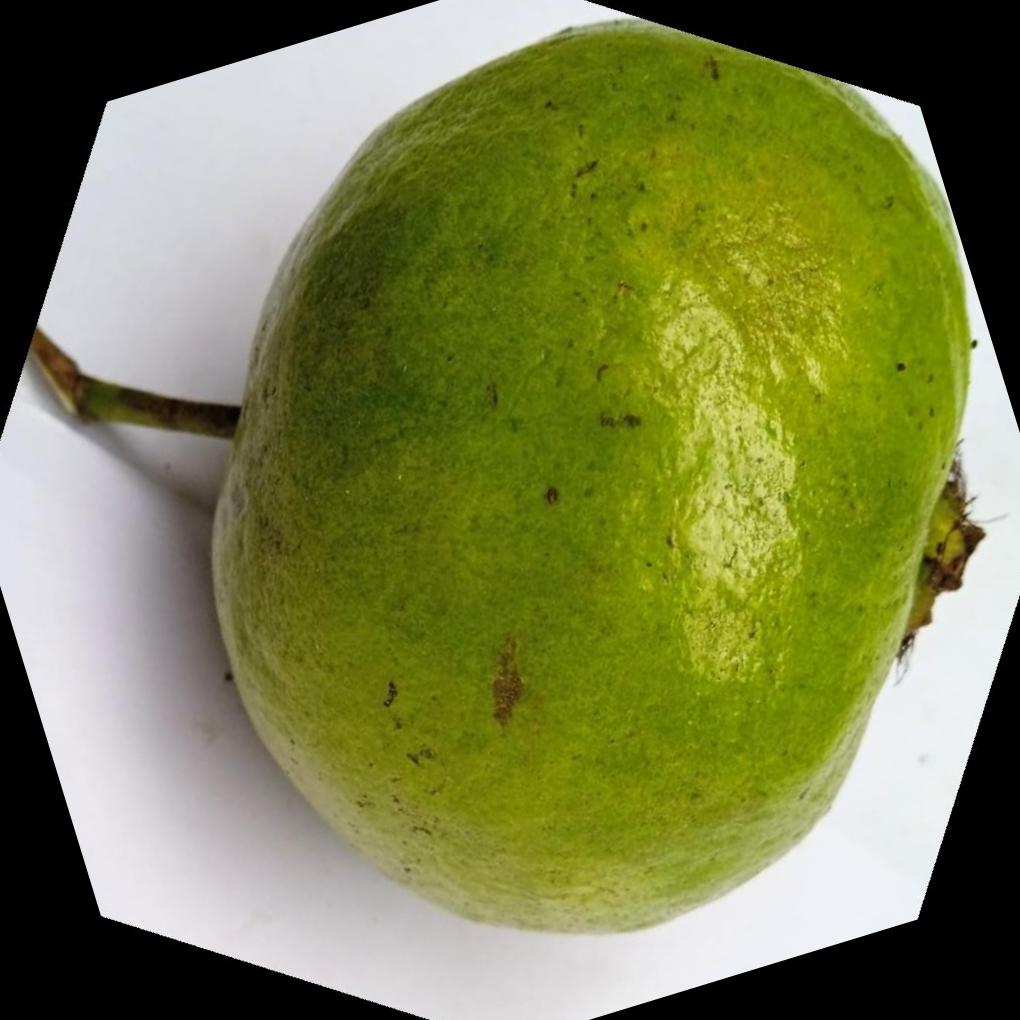FreshGuava: (210, 16, 979, 937)
